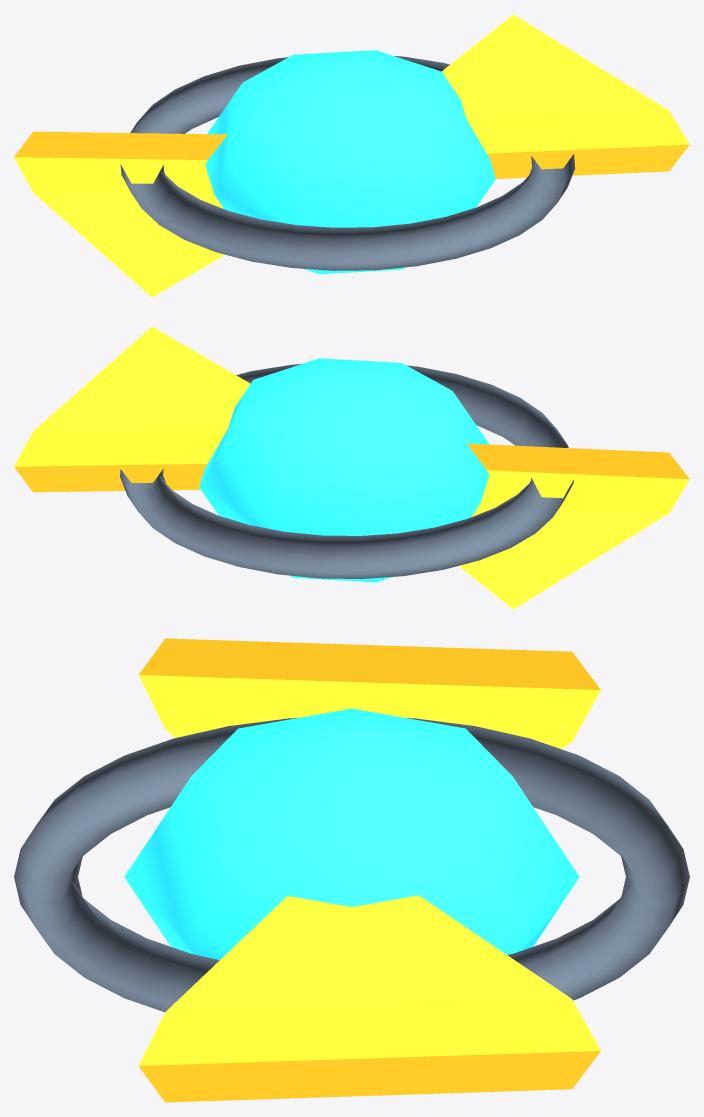
Rendered from orbital_sentinel.glb.
The picture shows the model from 3 angles, top to bottom: view 1: azimuth 30°, elevation 25°; view 2: azimuth 150°, elevation 25°; view 3: azimuth 270°, elevation 25°; orthographic projection. The views are drawn at different scales.
Parts seen in each view (by area): view 1: ORBITAL // SENTINEL; view 2: ORBITAL // SENTINEL; view 3: ORBITAL // SENTINEL.
Boxes of the visible parts, x1=… form: ORBITAL // SENTINEL: x1=14, y1=14, x2=689, y2=297; ORBITAL // SENTINEL: x1=14, y1=326, x2=689, y2=609; ORBITAL // SENTINEL: x1=14, y1=638, x2=689, y2=1102.
Size of the model in its own units: 1.3 by 0.44 by 0.95.
